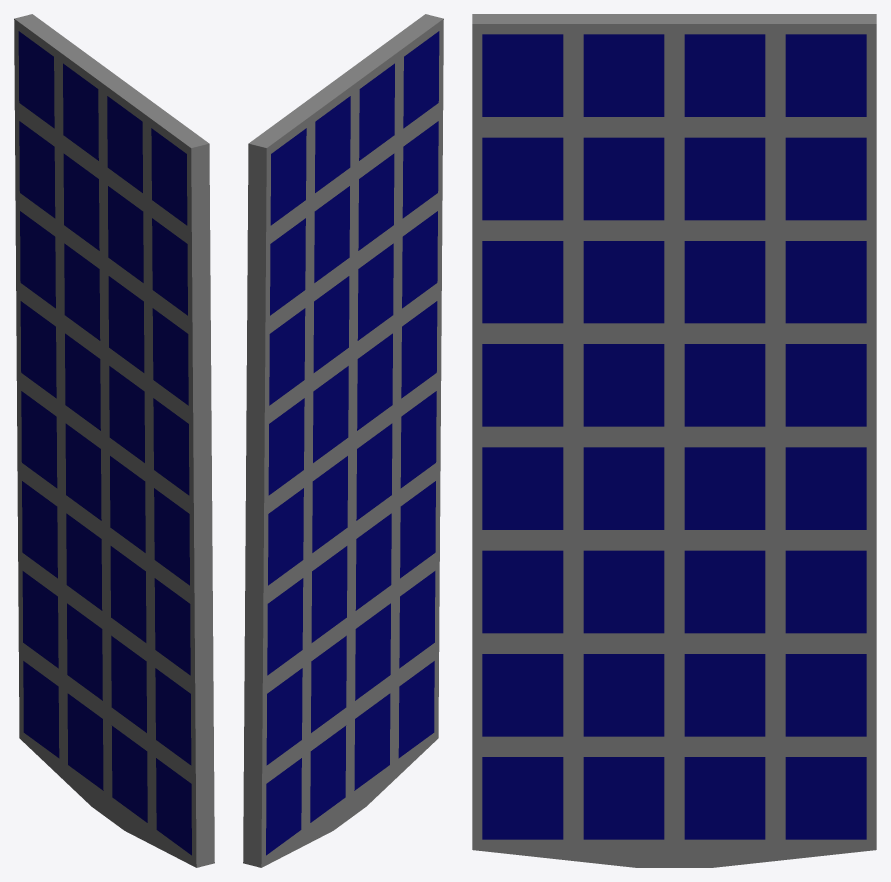
The model's file is panelIzq.obj.
3 renders of one model, left to right at view 1: azimuth 30°, elevation 25°; view 2: azimuth 150°, elevation 25°; view 3: azimuth 270°, elevation 25°, orthographic. The views are drawn at different scales.
Visible parts, largest first — view 1: panel1_azul, panel1_grisFuerte; view 2: panel1_azul, panel1_grisFuerte; view 3: panel1_azul, panel1_grisFuerte.
Part boxes in pixels (bbox=[...]): panel1_azul: bbox=[18, 31, 191, 855]; panel1_grisFuerte: bbox=[14, 14, 214, 867]; panel1_azul: bbox=[266, 31, 439, 855]; panel1_grisFuerte: bbox=[243, 14, 443, 867]; panel1_azul: bbox=[482, 34, 866, 839]; panel1_grisFuerte: bbox=[472, 14, 876, 867].
Bounding box in the file's own units: 0.196 × 5.81 × 2.53.
